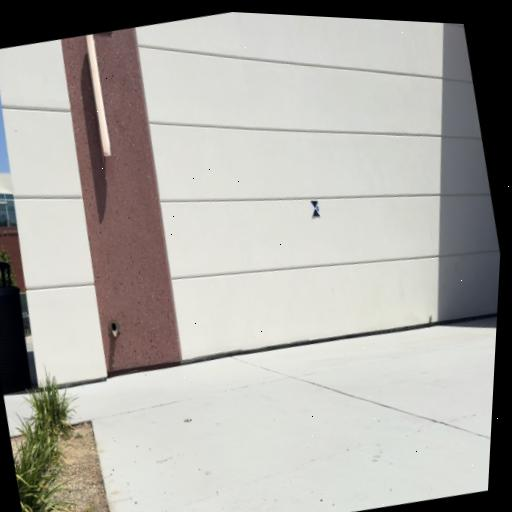target0: (308, 197, 322, 219)
